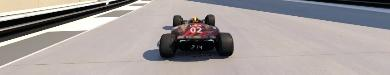Car: (158, 14, 233, 57)
Solid White and black: (0, 0, 152, 74)
